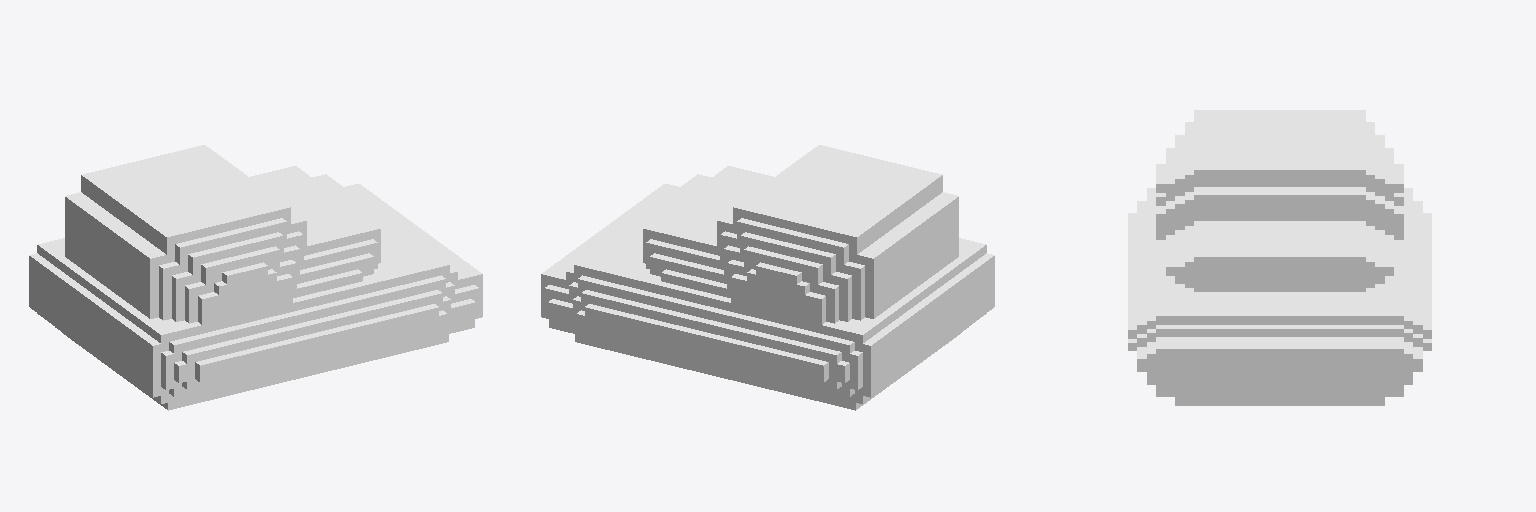
Rendered from nube.obj.
3 views of the same model, side by side, from view 1: azimuth 30°, elevation 25°; view 2: azimuth 150°, elevation 25°; view 3: azimuth 270°, elevation 25° (orthographic).
Parts seen in each view (by area): view 1: object 1; view 2: object 1; view 3: object 1.
Boxes of the visible parts, x1,y1,x2,y2 form: object 1: [29, 145, 482, 410]; object 1: [541, 145, 994, 410]; object 1: [1128, 110, 1431, 405].
Size of the model in its own units: 4 by 1.9 by 3.2.